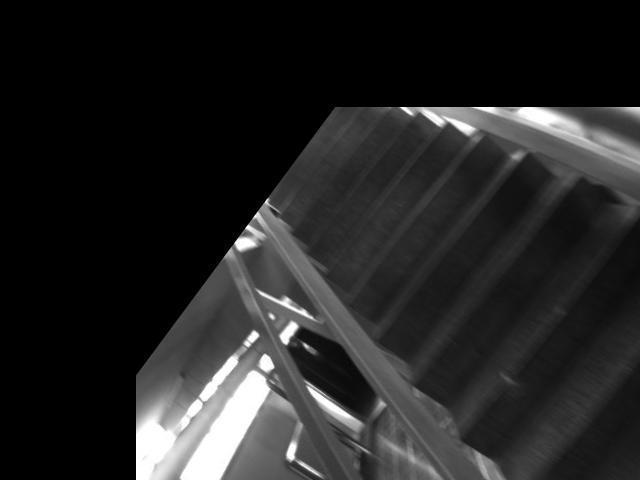Escaleras: (229, 21, 640, 480)
